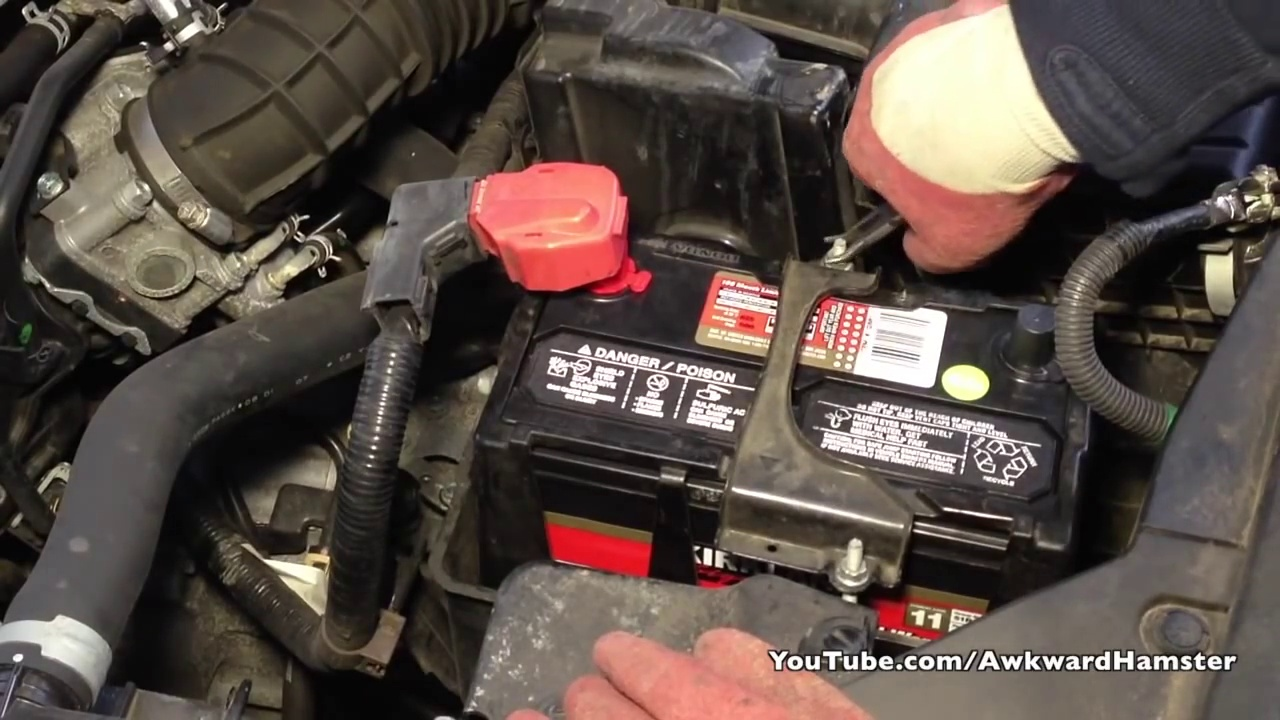battery: (492, 215, 1070, 547)
pos_connected: (423, 159, 651, 322)
